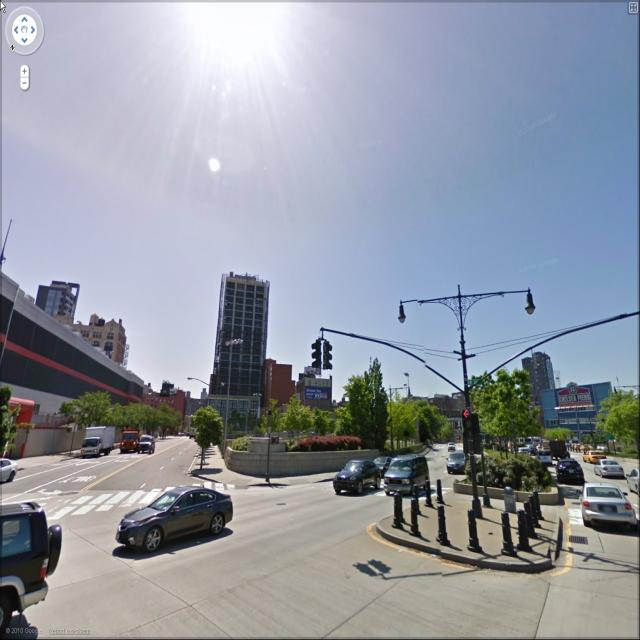b_1: (0, 281, 146, 407), (208, 263, 268, 428), (64, 308, 134, 366), (263, 361, 305, 414), (34, 276, 76, 325), (526, 345, 558, 407)
